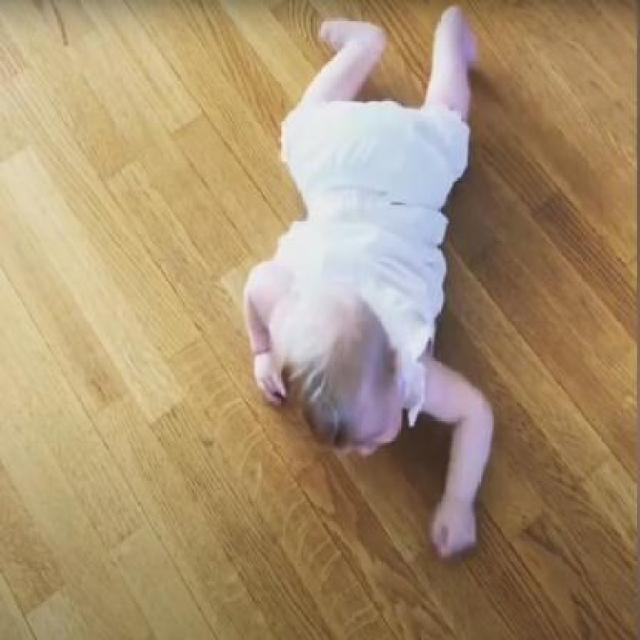baby: (237, 4, 492, 558)
